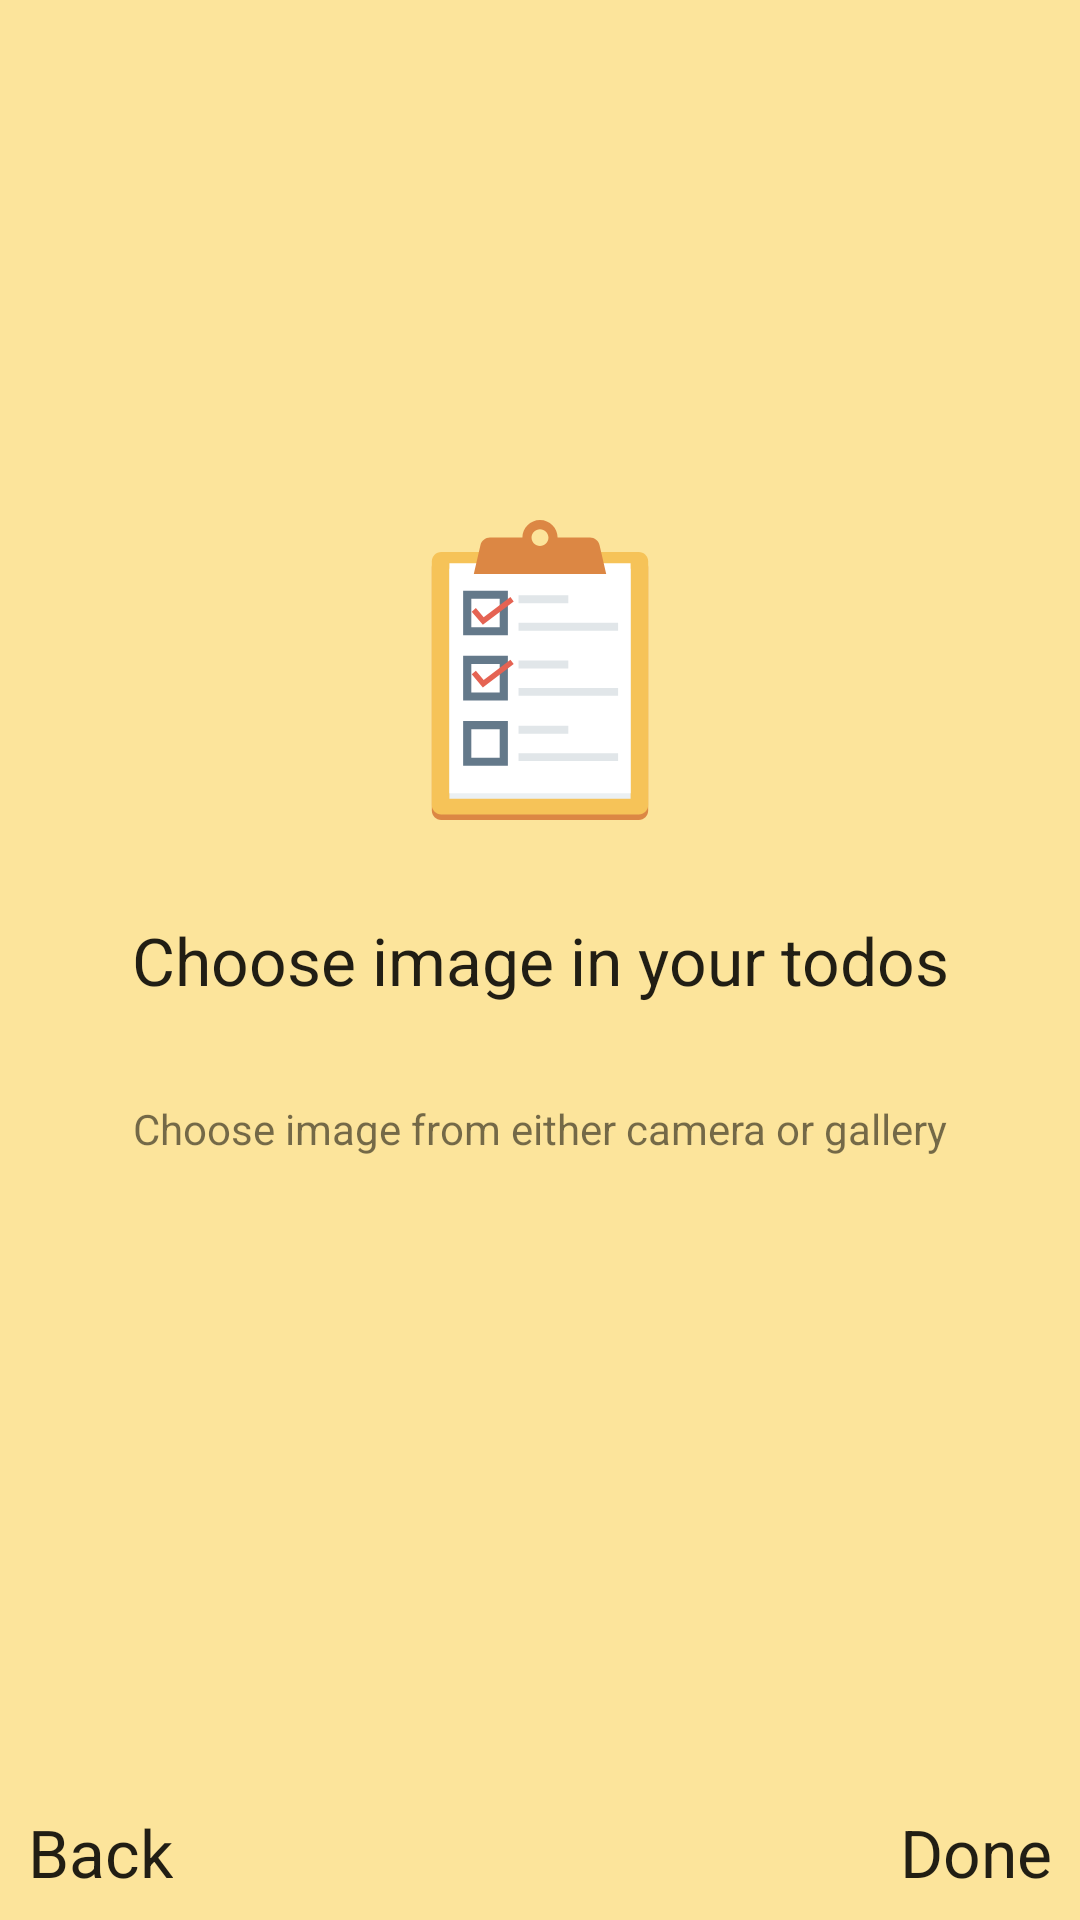

Icons on this 1080*1920 Android screen, each with the point to tap as (x=x, y=y):
checklist: (x=540, y=670)
